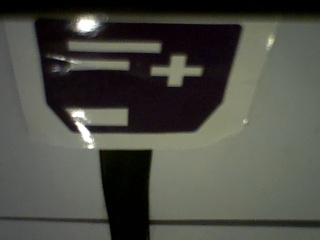Supply_Station: (32, 18, 245, 133)
